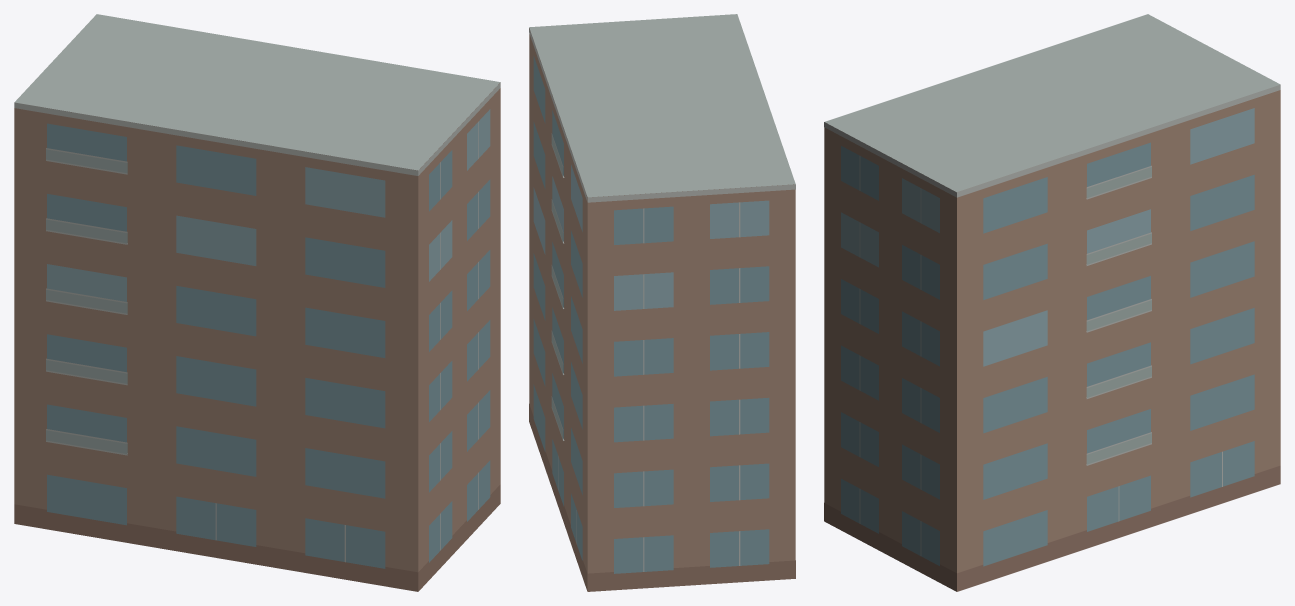
Rendered from survey-upis-32760353.glb.
The picture shows the model from 3 angles, left to right: view 1: azimuth 30°, elevation 25°; view 2: azimuth 150°, elevation 25°; view 3: azimuth 270°, elevation 25°; orthographic projection. The views are drawn at different scales.
Visible parts, largest first — view 1: survey-upis-32760353.tmp; view 2: survey-upis-32760353.tmp; view 3: survey-upis-32760353.tmp.
Boxes of the visible parts, x1,y1,x2,y2 form: survey-upis-32760353.tmp: (14, 14, 500, 591); survey-upis-32760353.tmp: (529, 14, 795, 591); survey-upis-32760353.tmp: (824, 14, 1280, 591).
Bounding box in the file's own units: 17.53 × 18.3 × 18.96.
